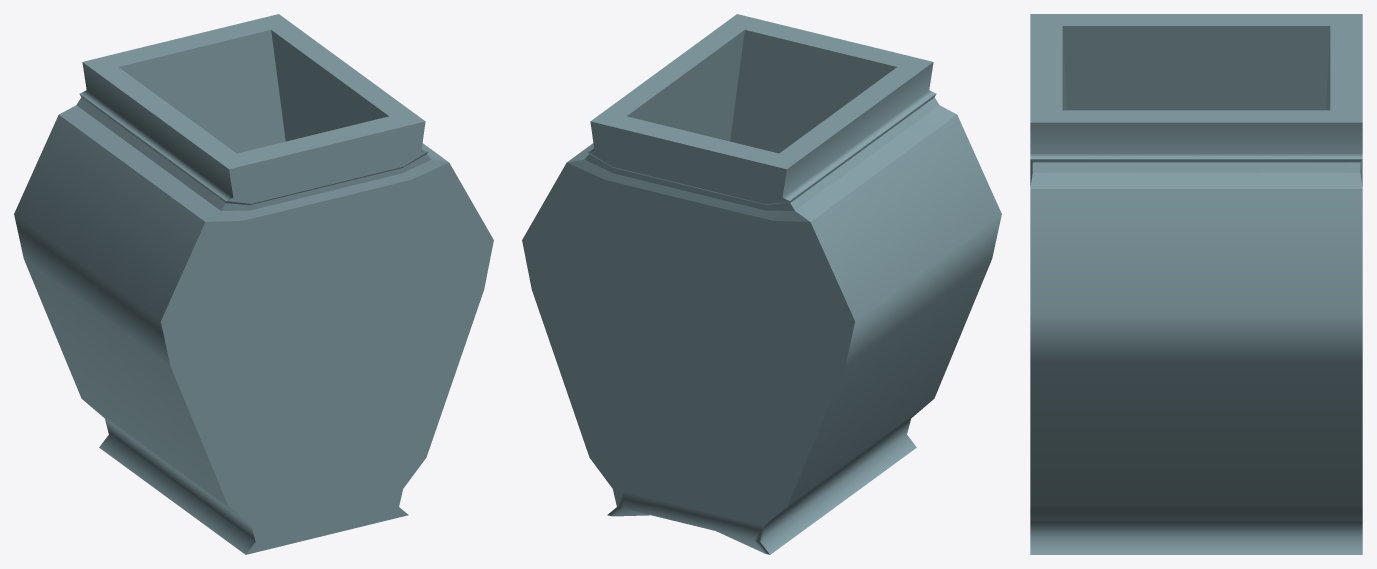
The model's file is MoonPot.fbx.
3 renders of one model, left to right at view 1: azimuth 30°, elevation 25°; view 2: azimuth 150°, elevation 25°; view 3: azimuth 270°, elevation 25°, orthographic. The views are drawn at different scales.
Visible parts, largest first — view 1: Pot; view 2: Pot; view 3: Pot.
Boxes of the visible parts, <box> form: Pot: <box>14,14,493,554</box>; Pot: <box>522,14,1001,554</box>; Pot: <box>1030,14,1362,554</box>.
Size of the model in its own units: 3.56 by 3.98 by 2.71.
